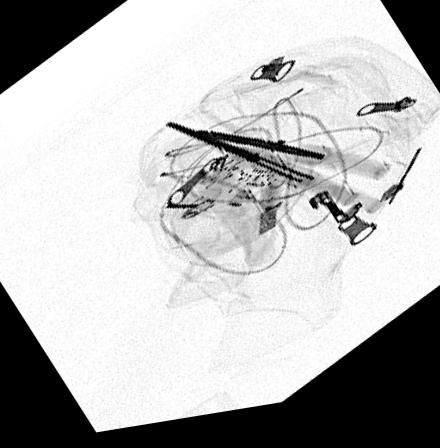Scissors: (159, 120, 396, 239)
